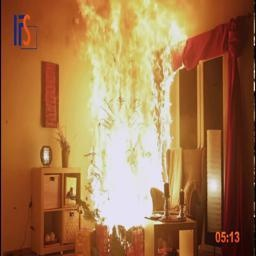fire: (61, 1, 195, 238)
